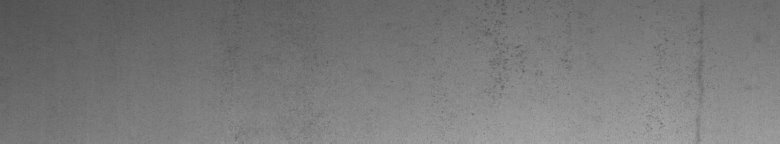ib: (476, 4, 571, 88)
